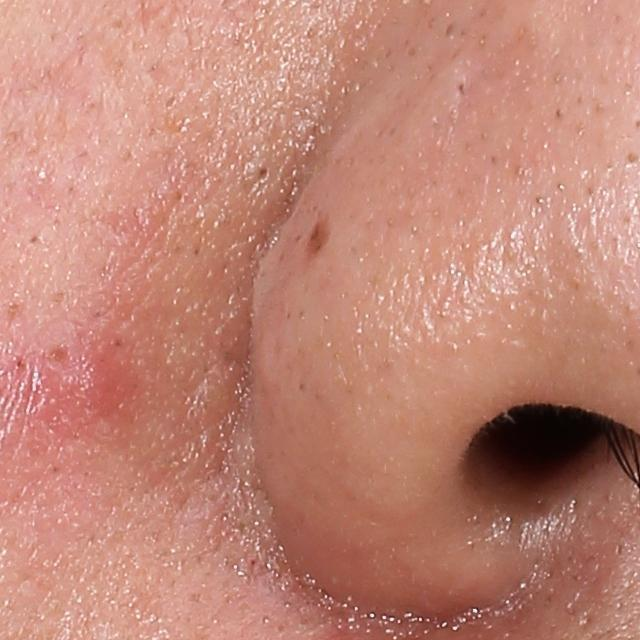comedo: (250, 159, 279, 184)
papule: (65, 361, 125, 410)
